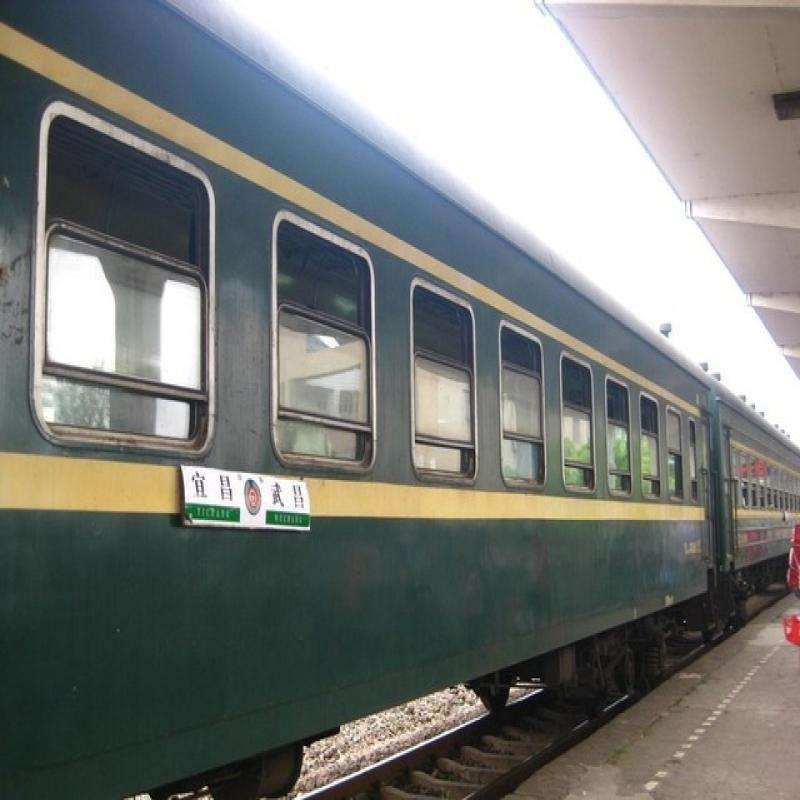train: (480, 236, 800, 620)
